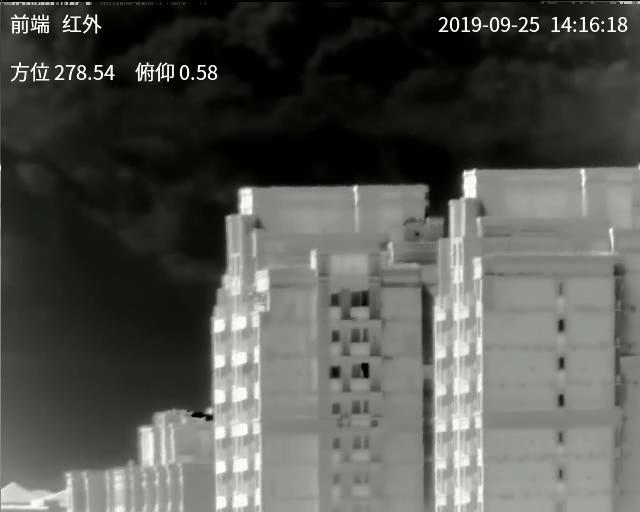uav: (246, 287, 270, 308)
